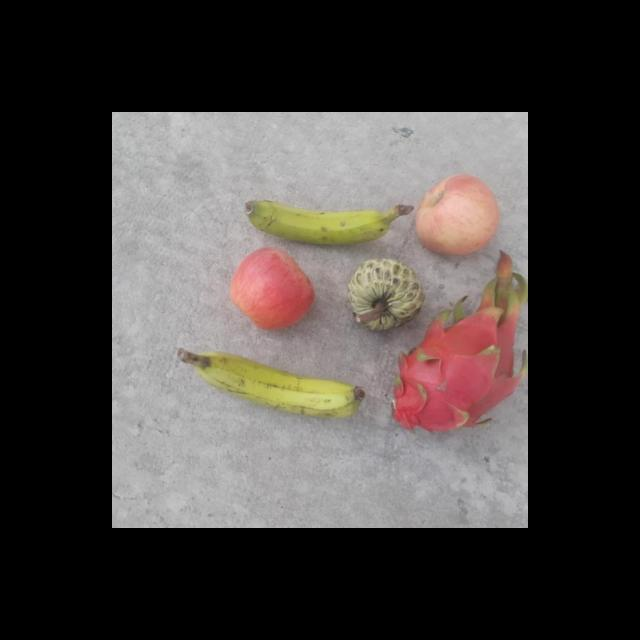Sakya fruit: (347, 258, 424, 332)
apple: (227, 247, 315, 331), (414, 172, 502, 255)
banana: (177, 347, 366, 420), (245, 194, 417, 247)
pitaya: (391, 304, 519, 434)
